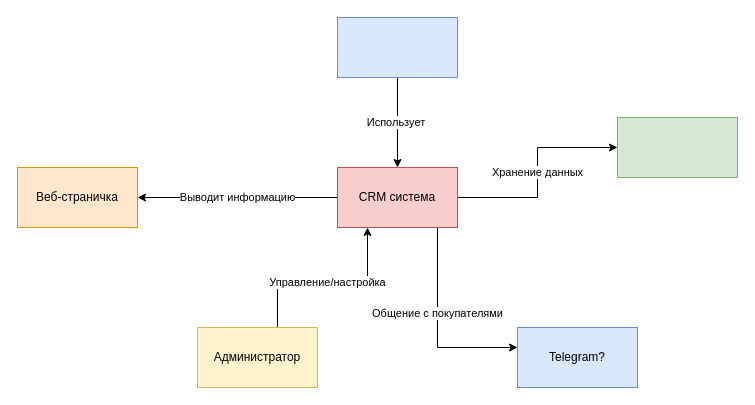
Some shapes in this 755 by 405 pixel diagram are drawn without their labels. The shapes that lost their labels are listed below. From the top down, each one's box as (x1, y1, x2, y2) in pixels, then its label:
(336, 16, 458, 78): Пользователь
(616, 116, 738, 178): Oracle DataBase
